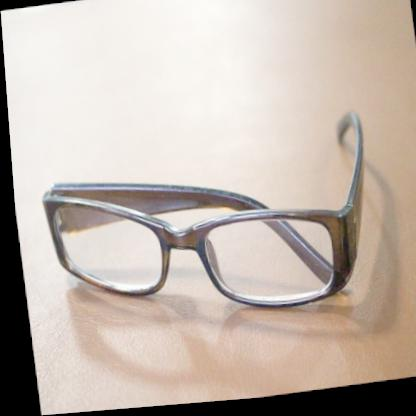Spectacles: (31, 145, 365, 341)
